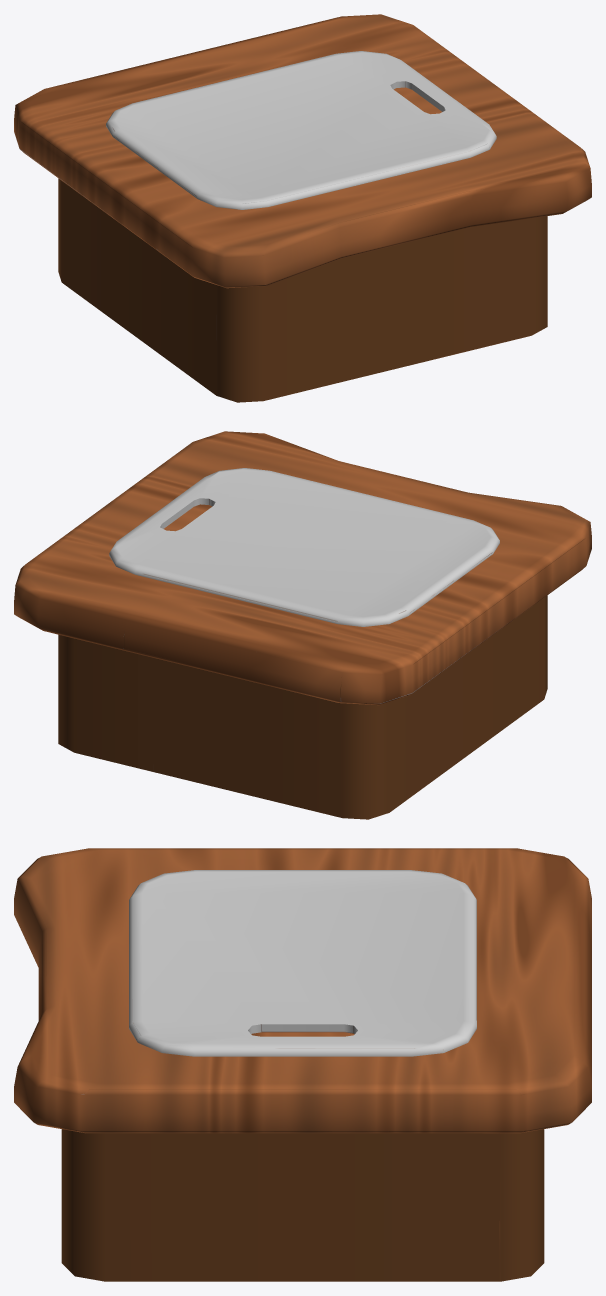
Rendered from TahtaliTezgah.fbx.
The picture shows the model from 3 angles, top to bottom: view 1: azimuth 30°, elevation 25°; view 2: azimuth 150°, elevation 25°; view 3: azimuth 270°, elevation 25°; orthographic projection. The views are drawn at different scales.
Parts seen in each view (by area): view 1: TahtaliTezgah; view 2: TahtaliTezgah; view 3: TahtaliTezgah.
Part boxes in pixels (x1,y1,x2,y2): TahtaliTezgah: (14, 14, 591, 402); TahtaliTezgah: (14, 431, 591, 819); TahtaliTezgah: (14, 848, 591, 1281).
Size of the model in its own units: 101 by 42.58 by 101.
1 material, 1 textured.
